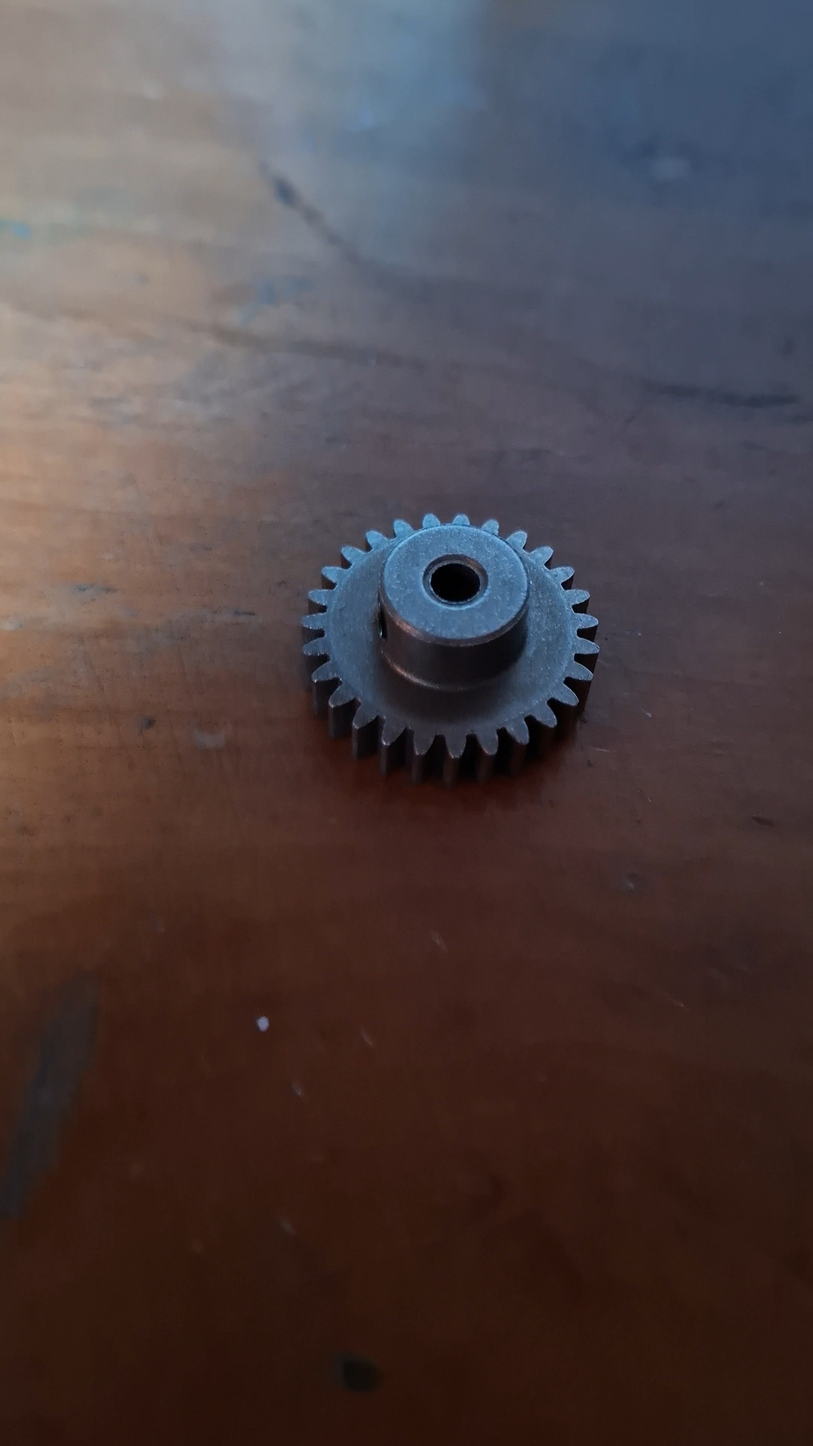spur gear: (303, 514, 598, 782)
